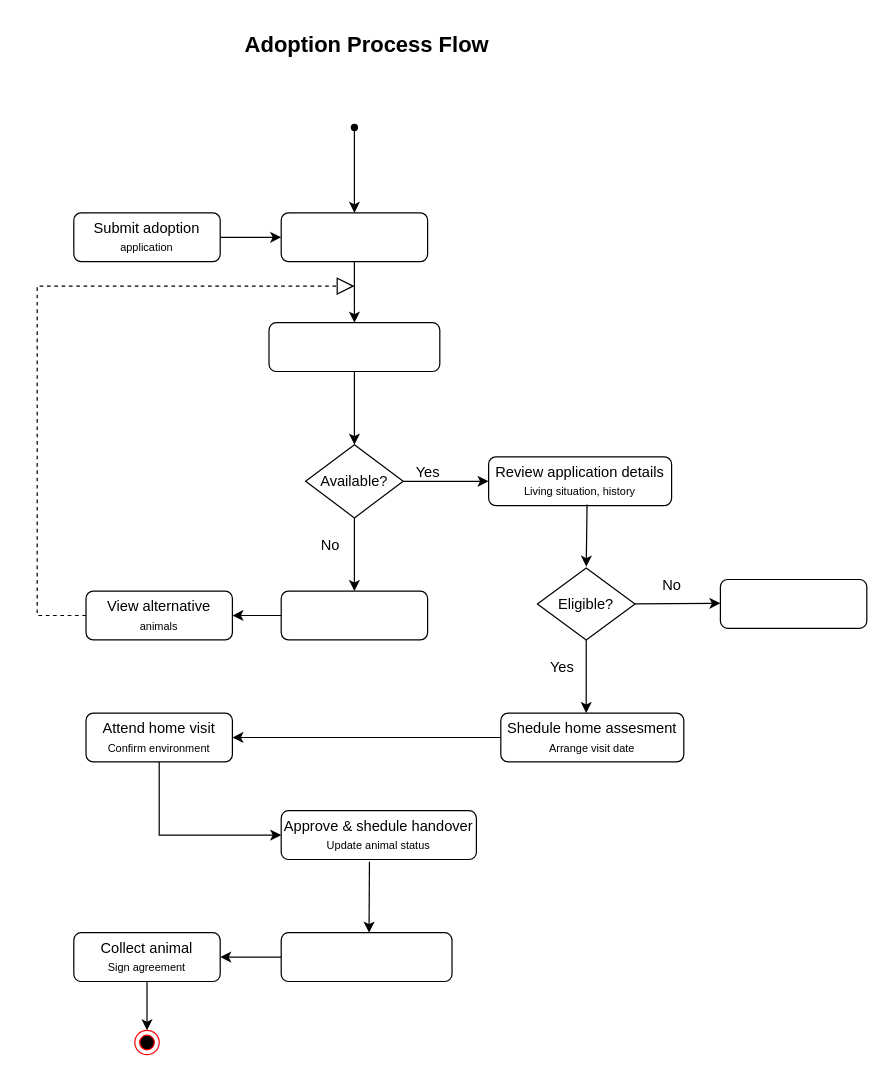
Image size: 888x1076. Some labels were removed from this diagram. The centre of each missing label's shape, as x and y in pixels:
"Check animal availability" belongs at (354,346).
"Log application Assign application ID" belongs at (354,237).
"Notify: not available" belongs at (354,615).
"Reject with reason Send notification" belongs at (793,603).
"Shedule follow-up check" belongs at (366,956).
